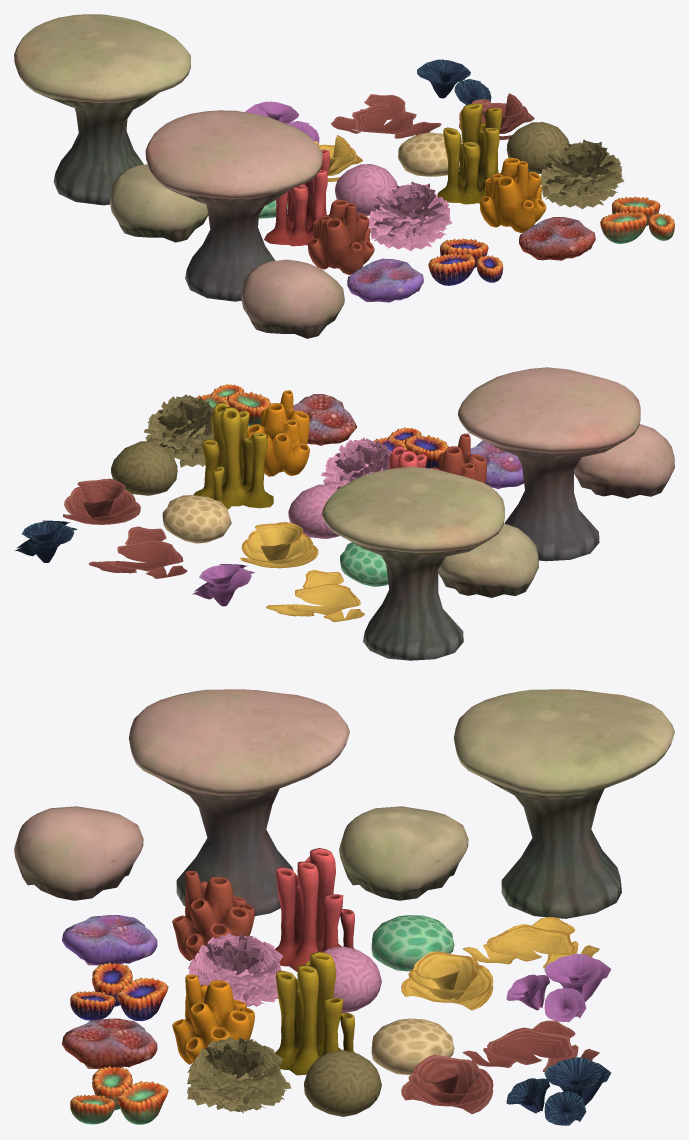
3 renders of one model, top to bottom at view 1: azimuth 30°, elevation 25°; view 2: azimuth 150°, elevation 25°; view 3: azimuth 270°, elevation 25°, orthographic. The views are drawn at different scales.
Visible parts, largest first — view 1: Coral02_low, Coral02_low1, Coral01_low, Coral01_low1, coral11, coral14, coral23, coral19, coral10, coral25, coral17, coral20 (+10 smaller); view 2: Coral02_low1, Coral02_low, coral11, Coral01_low, Coral01_low1, coral14, coral10, coral15, coral16, coral28, coral17, coral24 (+12 smaller); view 3: Coral02_low1, Coral02_low, Coral01_low, Coral01_low1, coral11, coral25, coral14, coral23, coral19, coral10, coral21, coral18 (+12 smaller).
Boxes of the visible parts, x1,y1,x2,y2 form: Coral02_low: [145, 110, 322, 301]; Coral02_low1: [14, 14, 190, 205]; Coral01_low: [241, 259, 344, 338]; Coral01_low1: [110, 164, 208, 242]; coral11: [437, 103, 501, 204]; coral14: [540, 139, 624, 209]; coral23: [368, 181, 452, 251]; coral19: [308, 199, 374, 274]; coral10: [480, 157, 546, 232]; coral25: [264, 149, 330, 246]; coral17: [331, 94, 441, 138]; coral20: [347, 258, 423, 302]; Coral02_low1: [322, 466, 504, 660]; Coral02_low: [458, 367, 640, 561]; coral11: [193, 402, 273, 509]; Coral01_low: [574, 424, 674, 498]; Coral01_low1: [438, 523, 538, 597]; coral14: [143, 394, 214, 467]; coral10: [247, 390, 309, 476]; coral15: [111, 441, 177, 495]; coral16: [63, 478, 140, 524]; coral28: [240, 522, 318, 568]; coral17: [88, 526, 187, 578]; coral24: [266, 569, 364, 622]; Coral02_low1: [453, 689, 674, 918]; Coral02_low: [128, 689, 349, 916]; Coral01_low: [14, 806, 143, 900]; Coral01_low1: [339, 806, 468, 900]; coral11: [274, 951, 354, 1075]; coral25: [274, 848, 355, 971]; coral14: [187, 1036, 291, 1113]; coral23: [187, 933, 282, 1006]; coral19: [172, 871, 254, 960]; coral10: [172, 974, 254, 1064]; coral21: [506, 953, 611, 1022]; coral18: [506, 1057, 611, 1125].
Size of the model in its own units: 0.259 by 0.0827 by 0.259.
Materials: 4 (4 with a texture image).
